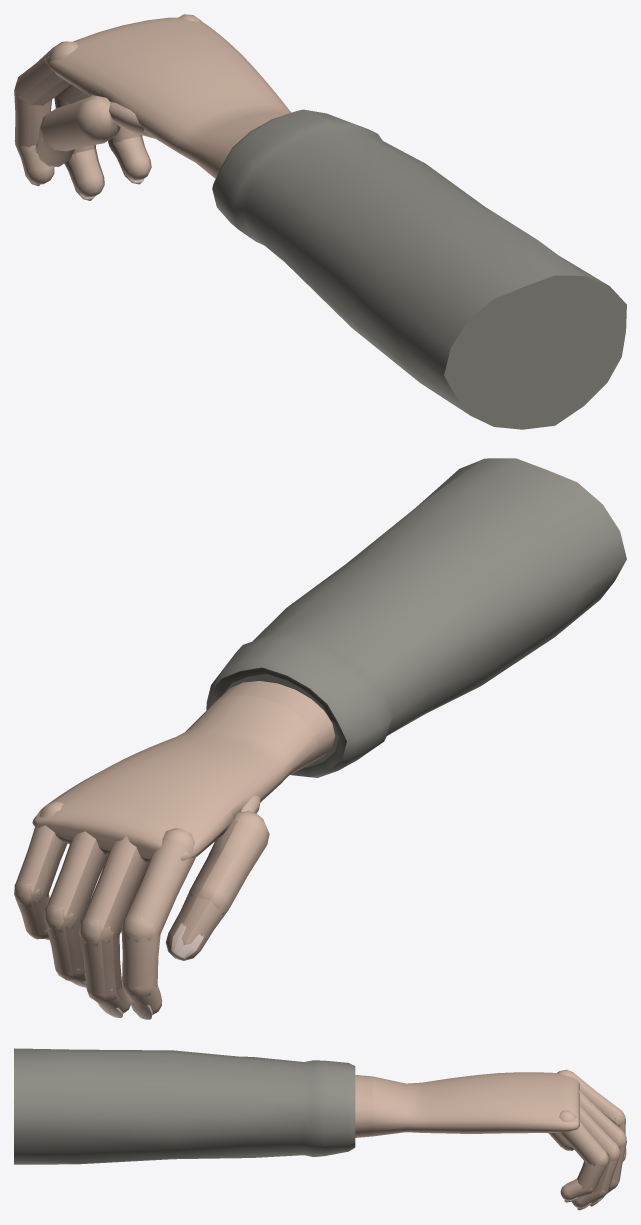
The model's file is lev_hand.glb.
The picture shows the model from 3 angles, top to bottom: view 1: azimuth 30°, elevation 25°; view 2: azimuth 150°, elevation 25°; view 3: azimuth 270°, elevation 25°; orthographic projection. The views are drawn at different scales.
Parts seen in each view (by area): view 1: lev_hand; view 2: lev_hand; view 3: lev_hand.
Part boxes in pixels (x1,y1,x2,y2): lev_hand: [14, 14, 626, 429]; lev_hand: [14, 458, 626, 1019]; lev_hand: [14, 1048, 626, 1210].
Size of the model in its own units: 0.0925 by 0.1077 by 0.3845.
